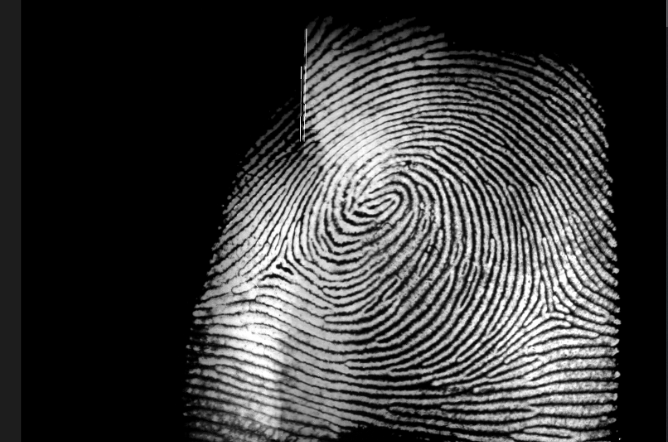nucelo: (371, 191, 405, 207)
verticilo: (258, 258, 297, 280), (530, 304, 563, 323)
